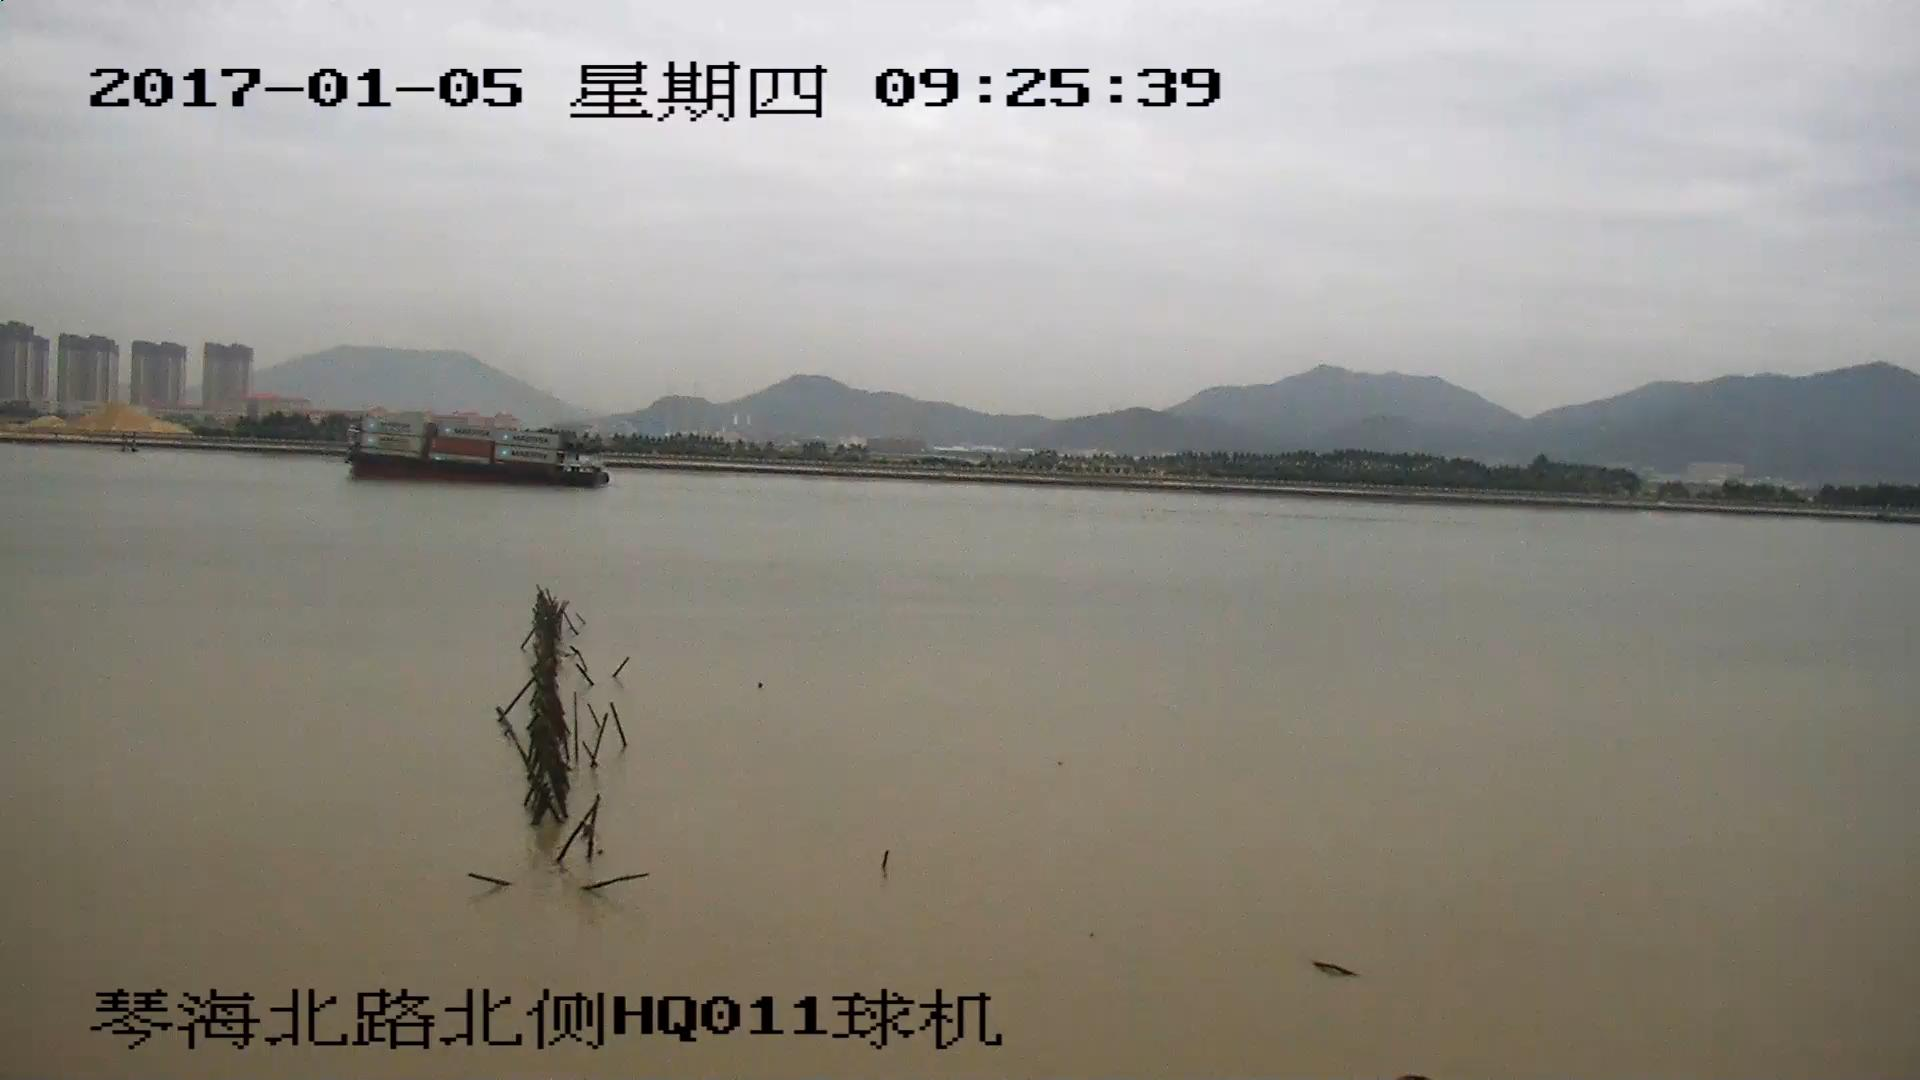container ship: (346, 419, 606, 484)
